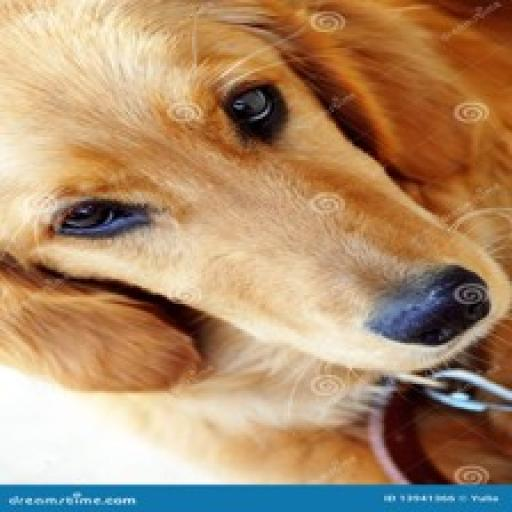dog: (0, 0, 512, 482)
